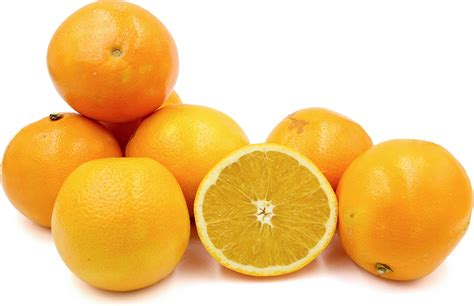orange: (336, 135, 474, 283), (50, 156, 193, 293), (44, 1, 179, 120), (124, 104, 260, 184), (1, 111, 120, 197), (262, 105, 375, 176)
